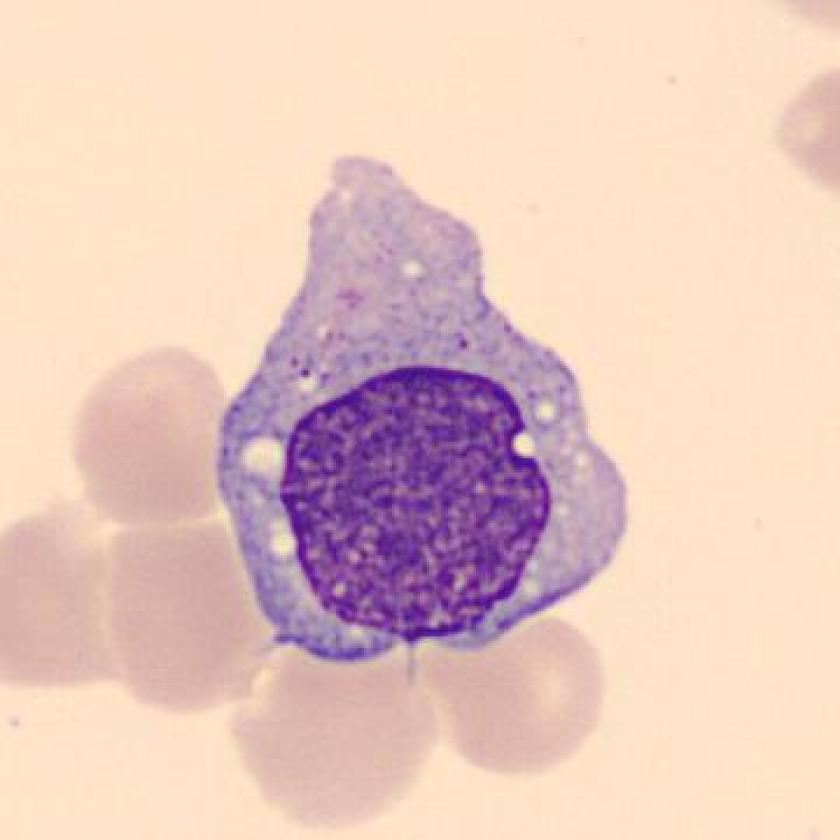monocyte: (192, 135, 650, 679)
